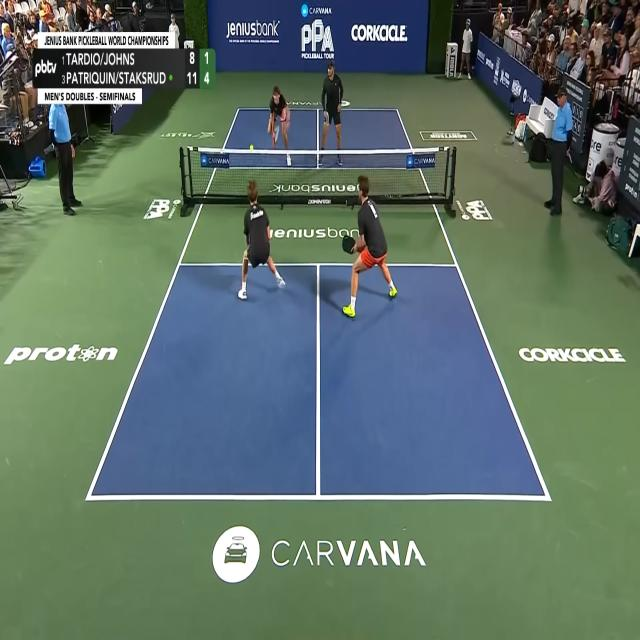ball: (249, 143, 254, 151)
